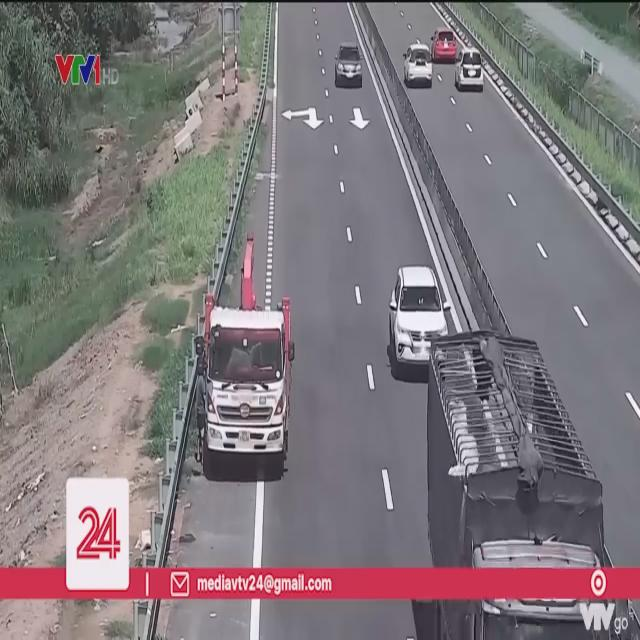car: (390, 270, 449, 372), (404, 42, 434, 88), (334, 42, 363, 86), (453, 49, 482, 92), (430, 28, 458, 61)
truck: (429, 333, 605, 567), (204, 292, 290, 478)
